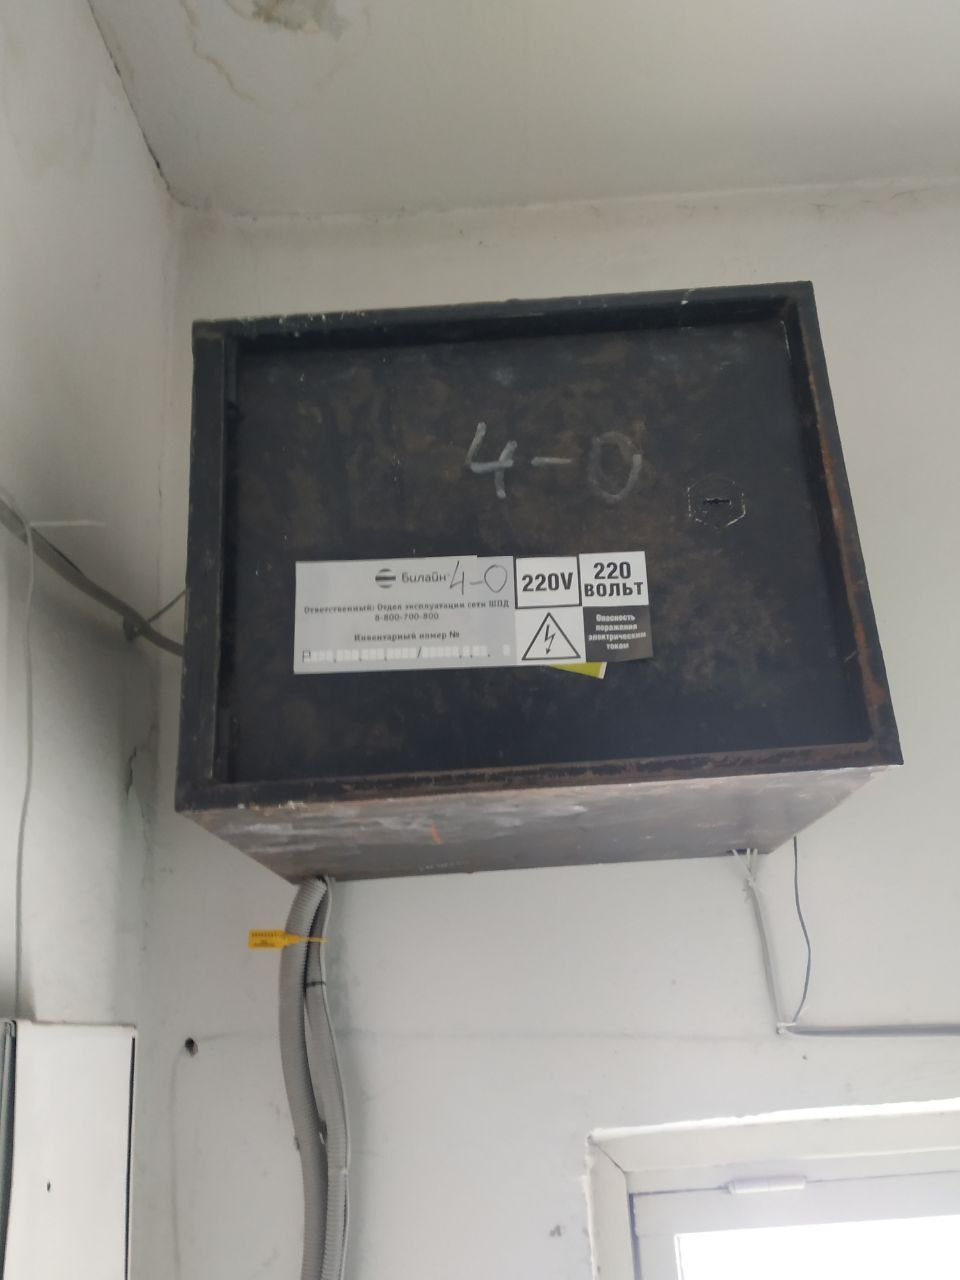shta-9m: (164, 269, 917, 890)
